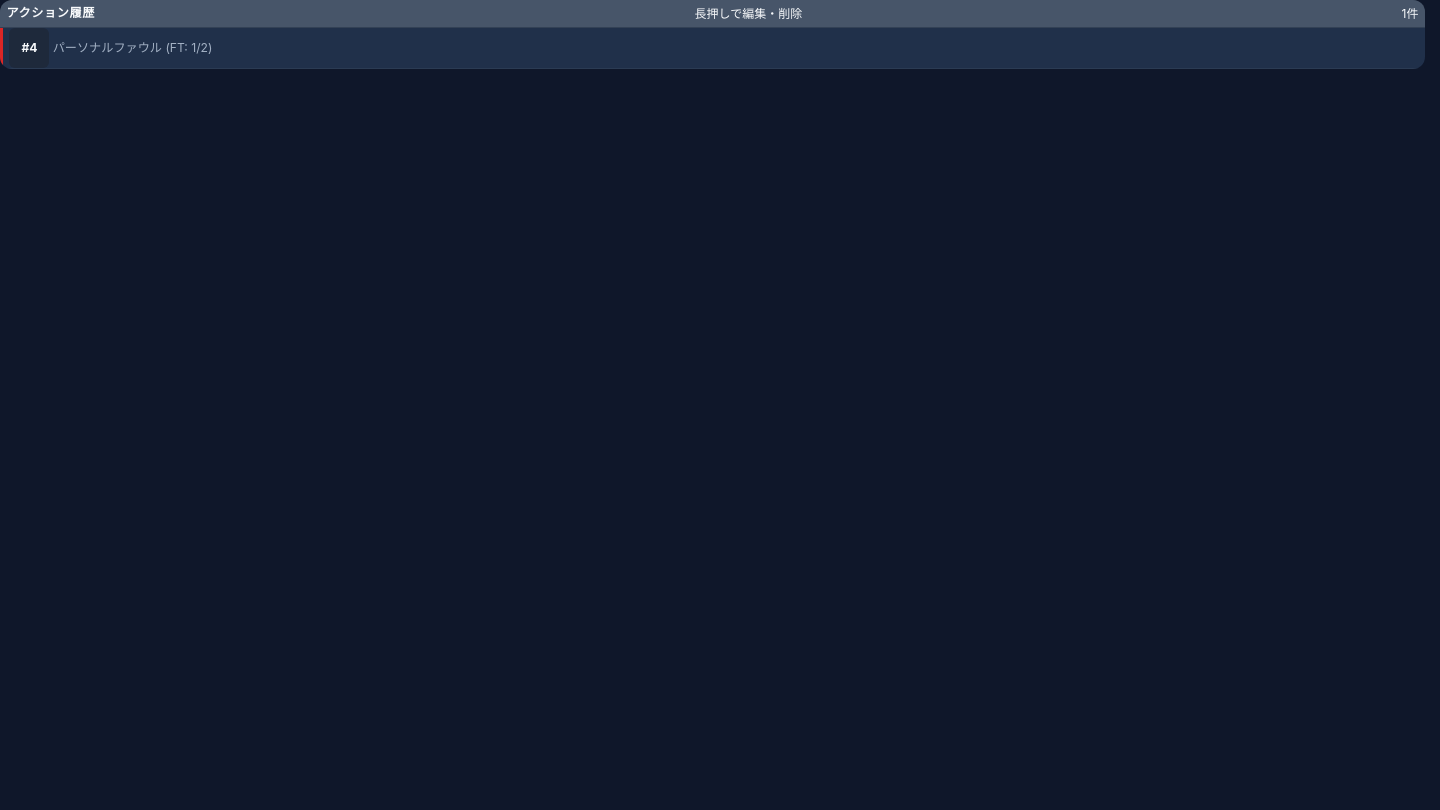
Scenario: ActionHistory: ファウルの編集 › スタッツの種別を選ばせない（ファウルはリバウンドに化けない）
The width and height of the screenshot is (1440, 810).
Press Enter in the button titled "長押し、またはEnterで編集・削除", box [10, 28, 1419, 68]
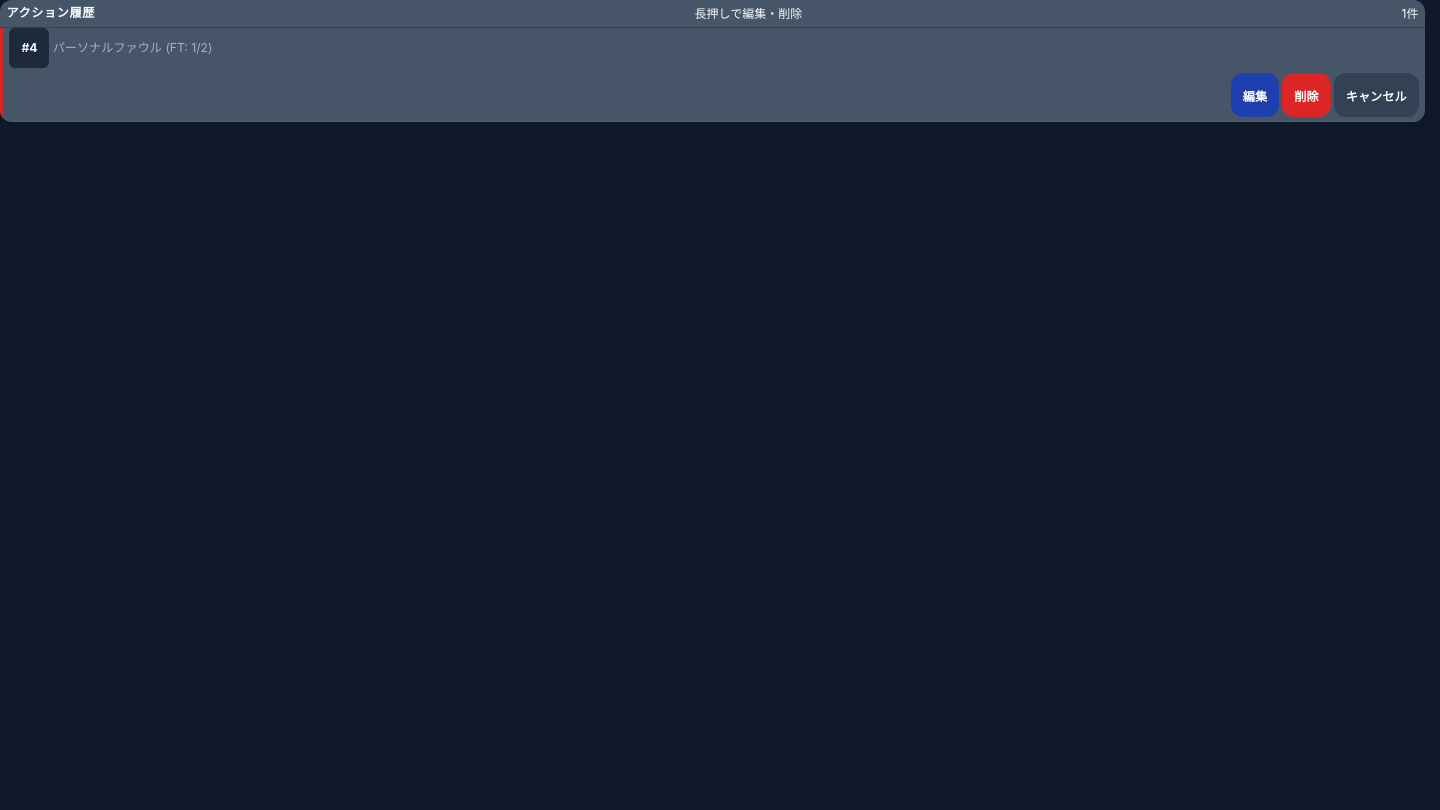
Click the button "編集" at {"x": 1255, "y": 95}, box [1231, 73, 1279, 117]
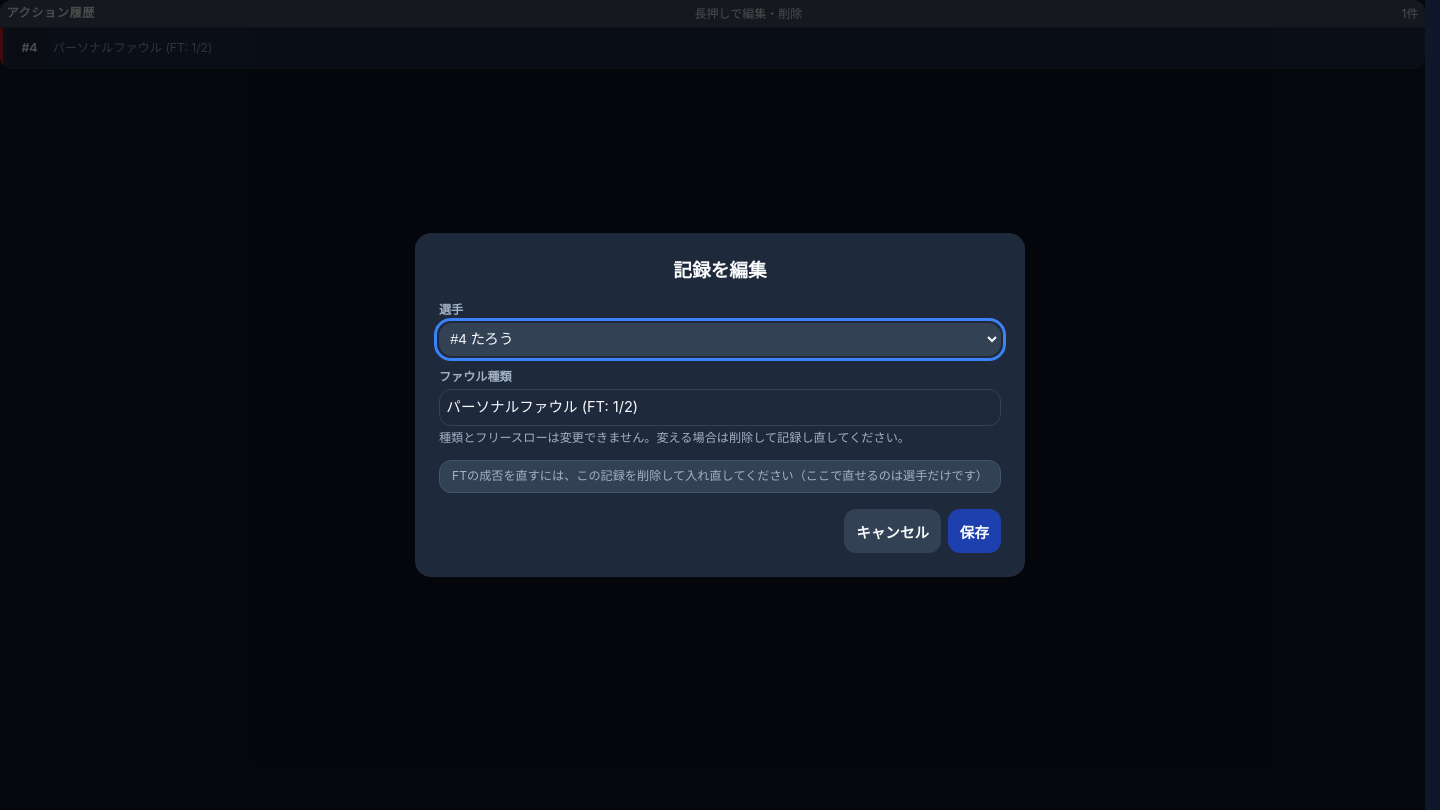
Expected: the text "パーソナルファウル (FT: 1/2)" is shown, [439, 389, 1001, 426]
